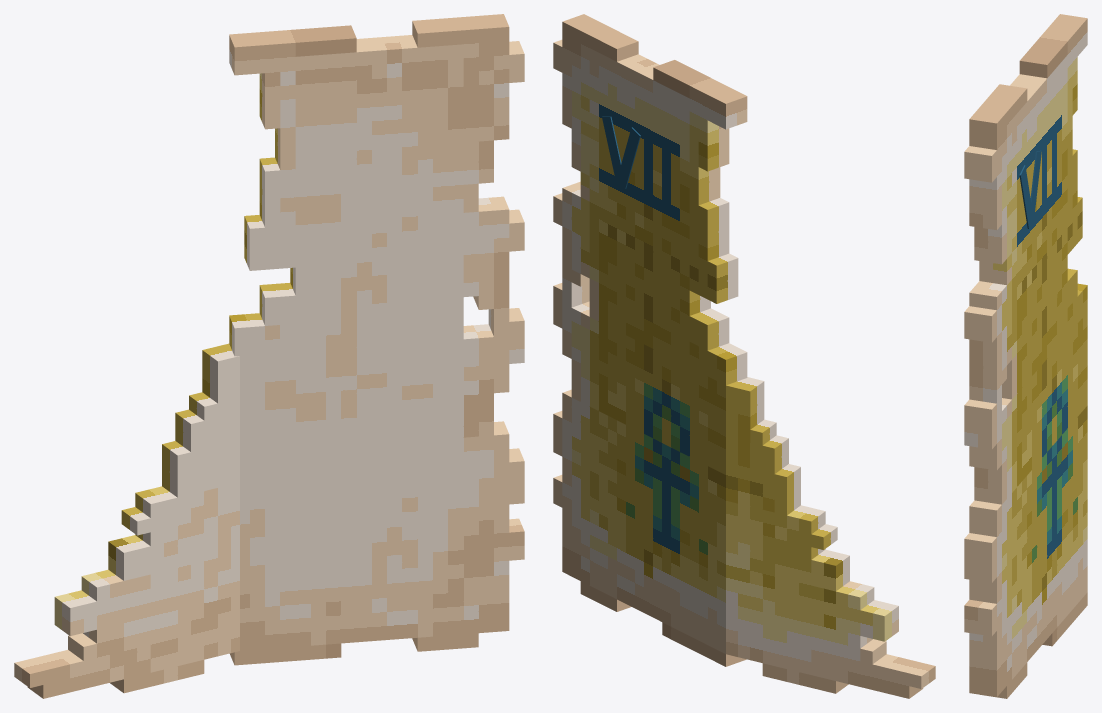
File: lost_page_03G_VII.gltf
The picture shows the model from 3 angles, left to right: view 1: azimuth 30°, elevation 25°; view 2: azimuth 150°, elevation 25°; view 3: azimuth 270°, elevation 25°; orthographic projection. The views are drawn at different scales.
Parts seen in each view (by area): view 1: MapRight$$(2)-Local, MapCenter$$(2)-Local; view 2: MapRight$$(2)-Local, MapCenter$$(2)-Local, V02-Local, V01-Local; view 3: MapRight$$(2)-Local, V01-Local, V02-Local.
Boxes of the visible parts, <box> form: MapRight$$(2)-Local: <box>229,14,524,665</box>; MapCenter$$(2)-Local: <box>14,343,239,698</box>; MapRight$$(2)-Local: <box>553,14,747,666</box>; MapCenter$$(2)-Local: <box>726,377,935,698</box>; V02-Local: <box>616,127,640,188</box>; V01-Local: <box>602,116,624,184</box>; MapRight$$(2)-Local: <box>964,14,1087,698</box>; V01-Local: <box>1019,165,1033,228</box>; V02-Local: <box>1029,150,1041,224</box>.
Bounding box in the file's own units: 33.85 × 44 × 8.38.
Materials: 4 (4 with a texture image).
